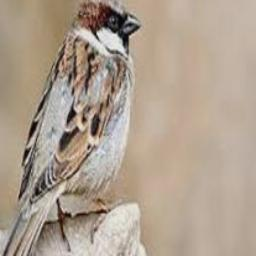Sparrow: (0, 0, 142, 256)
